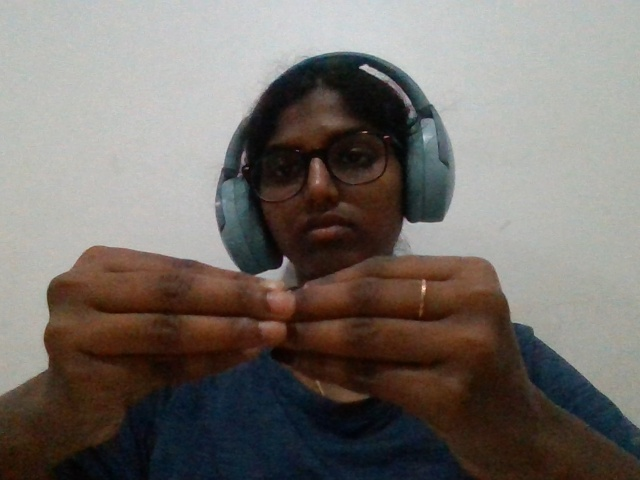More: (15, 224, 568, 475)
